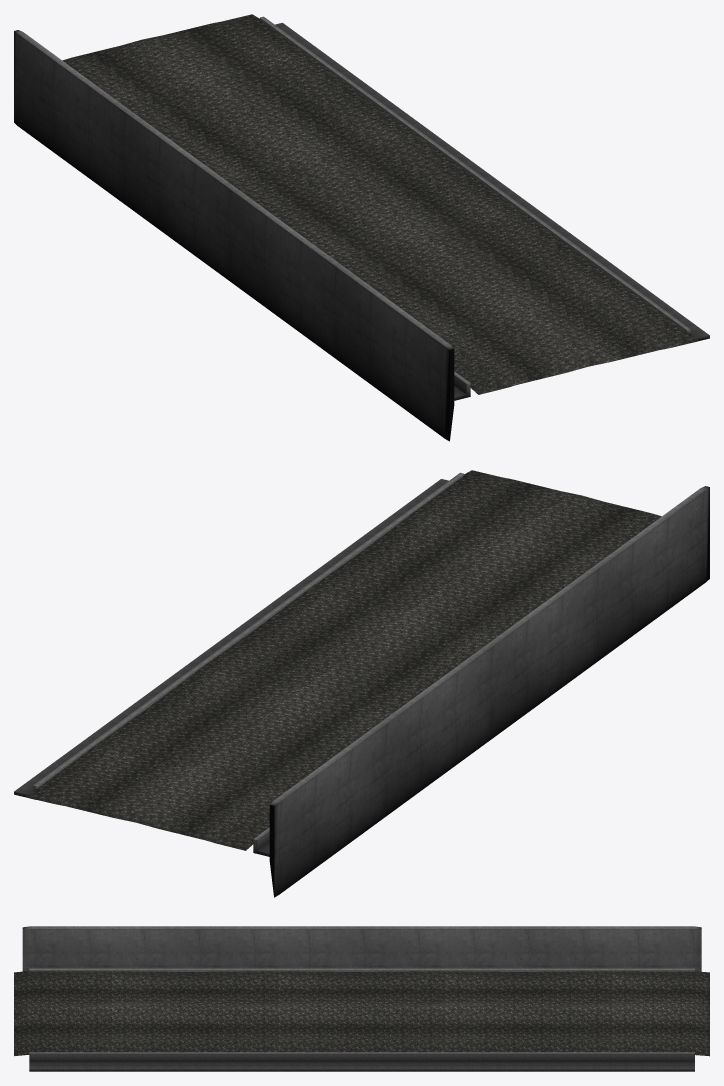
The model's file is AMB_JARI_TOB_R_WALL.glb.
3 views of the same model, one above another, from view 1: azimuth 30°, elevation 25°; view 2: azimuth 150°, elevation 25°; view 3: azimuth 270°, elevation 25° (orthographic). The views are drawn at different scales.
Visible parts, largest first — view 1: Mesh1; view 2: Mesh1; view 3: Mesh1.
Boxes of the visible parts, bbox=[...] form: Mesh1: bbox=[14, 14, 709, 441]; Mesh1: bbox=[14, 470, 709, 897]; Mesh1: bbox=[14, 926, 709, 1071].
Bounding box in the file's own units: 35.82 × 11.93 × 105.
Materials: 2 (2 with a texture image).
